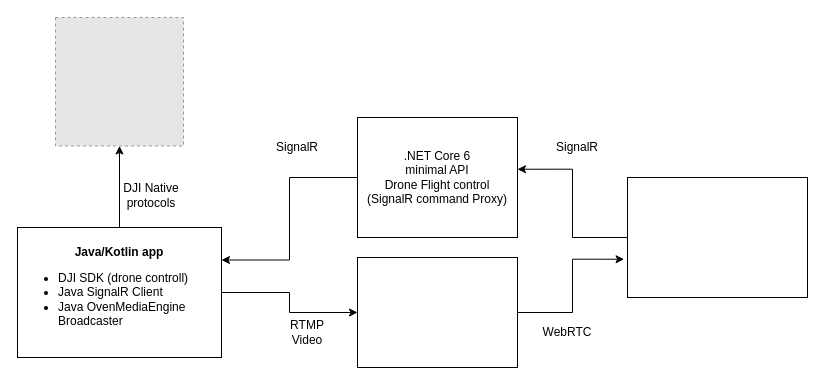
The diagram is 825 pixels wide and 385 high, and some of its shapes have lost their labels. Grey dashed boxes stand in for pictures. Here are the shapes that lost their labels. From the top down, the box of each, then its label:
(626, 176, 808, 298): Web Browser Drone Control Drone Camera Player
(356, 256, 518, 368): OvenMediaEngine (RTMP Income - WebRTC Outcome)
